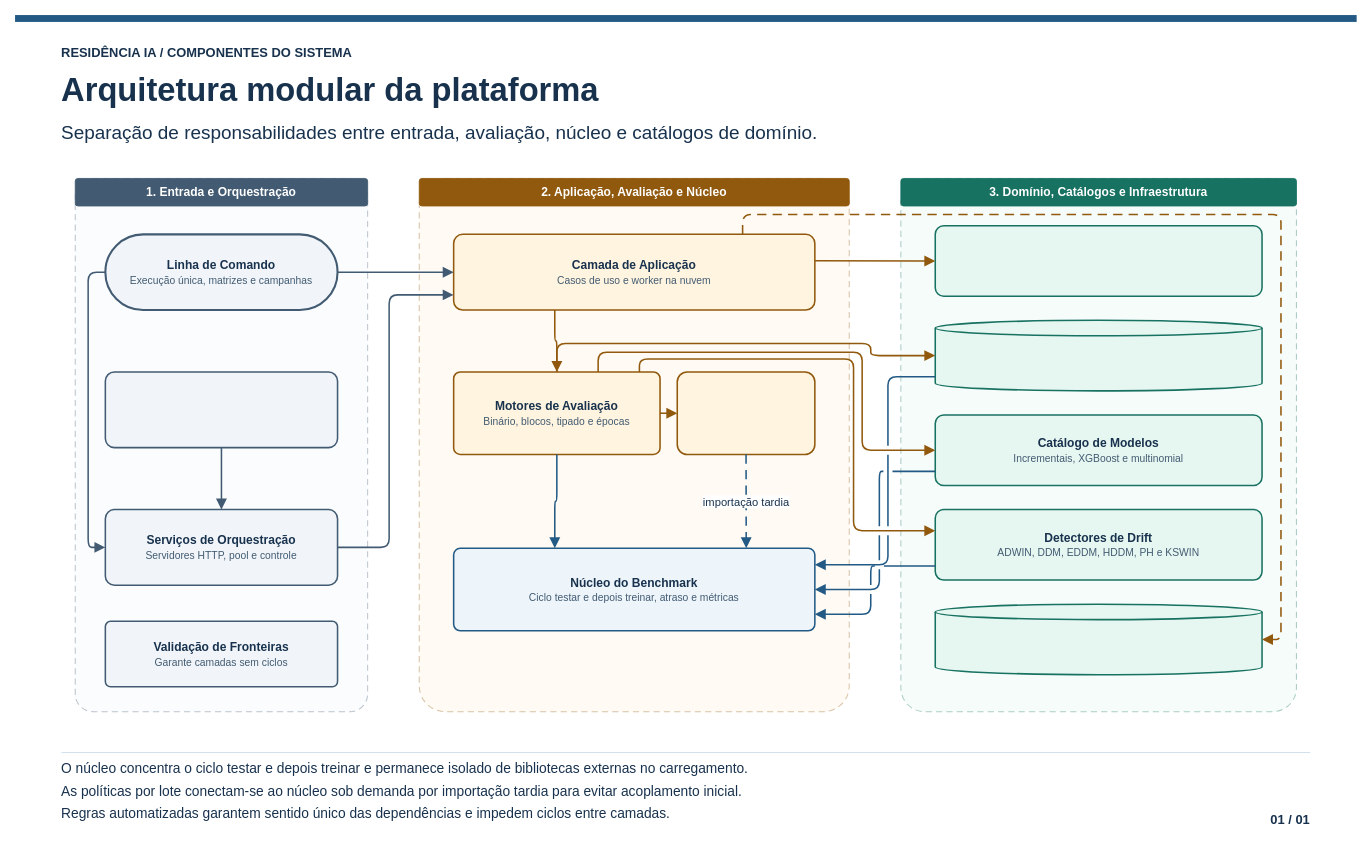
The diagram is 1371 pixels wide and 863 high, and some of its shapes have lost their labels. Here are the shapes that lost their labels. From the top down, the box of each, then its label:
(934, 225, 1262, 297): Configuração e Contratos Esquemas validados, preços e catálogo
(934, 319, 1262, 391): Catálogo de Datasets Sintéticos, reais, Zia e visão contínua
(104, 371, 338, 448): Agendadores e Lançadores Fluxos do Airflow e automação
(676, 371, 815, 455): Políticas Custo CARA, UPF e Oracle
(934, 603, 1262, 675): Infraestrutura e Tracking MLflow, S3, MinIO, Kafka e storage
